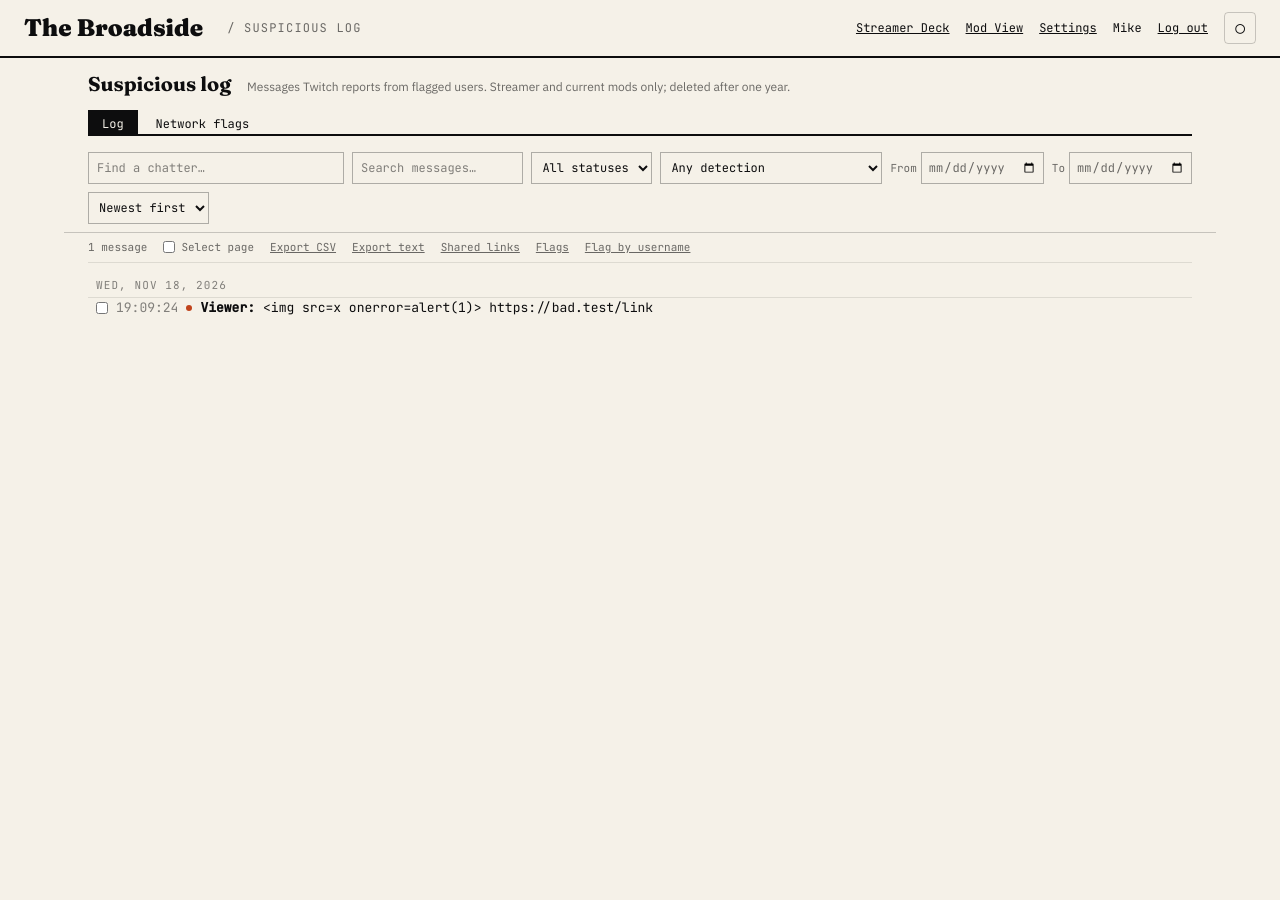
Scenario: SuspiciousLogView sharing › lets a mod revoke only their own links
This screenshot has width=1280, height=900.
Check: the text "<img src=x onerror=alert(1)> https://bad.test/link" is shown, box [263,298,653,316]
Step 1. Click the button "Shared links" → (480, 247), box [441,239,520,256]
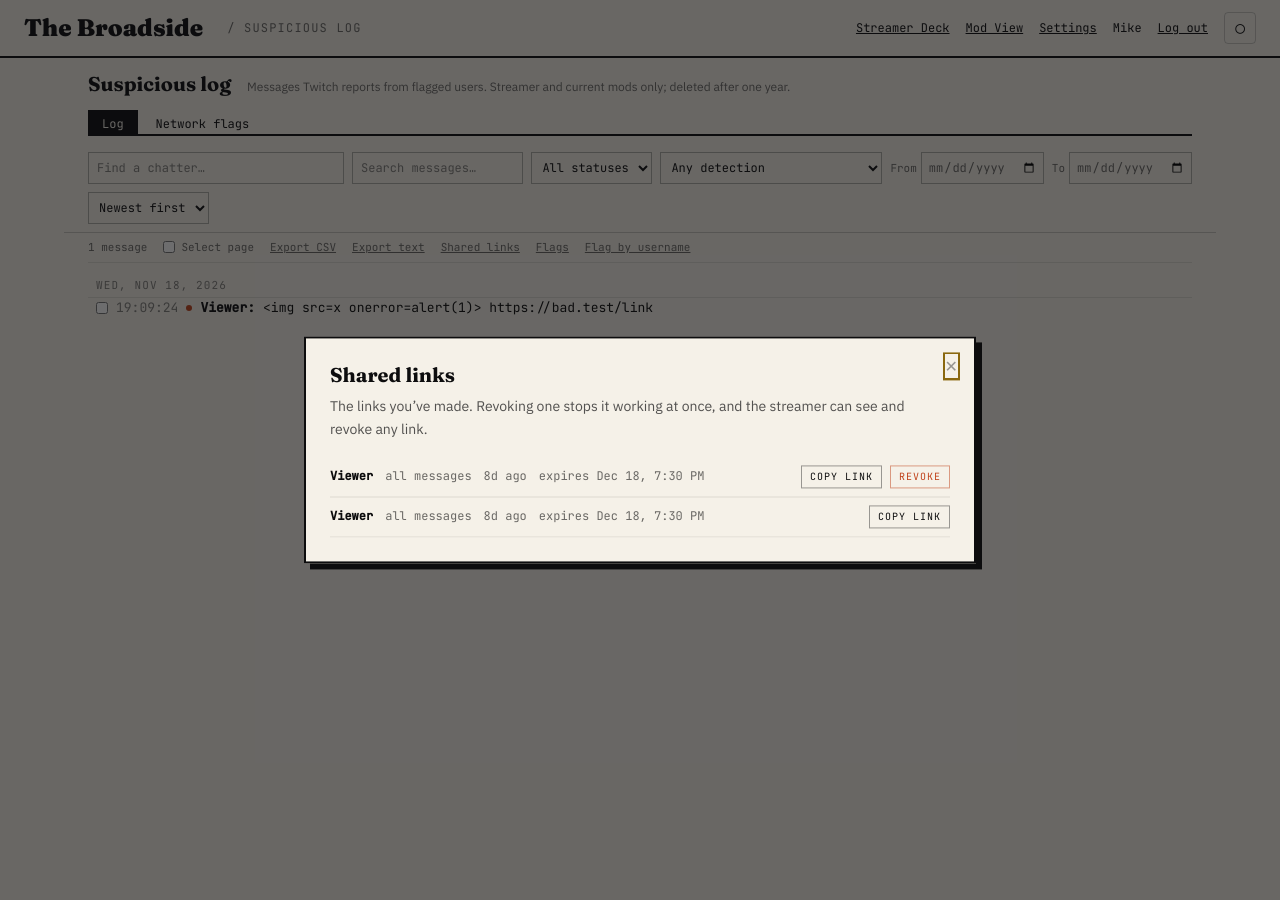
Check: the list named "Shared links" is shown, box [330,457,950,538]
Check: the number of buttons "Revoke" is 1, box [890,465,950,488]
